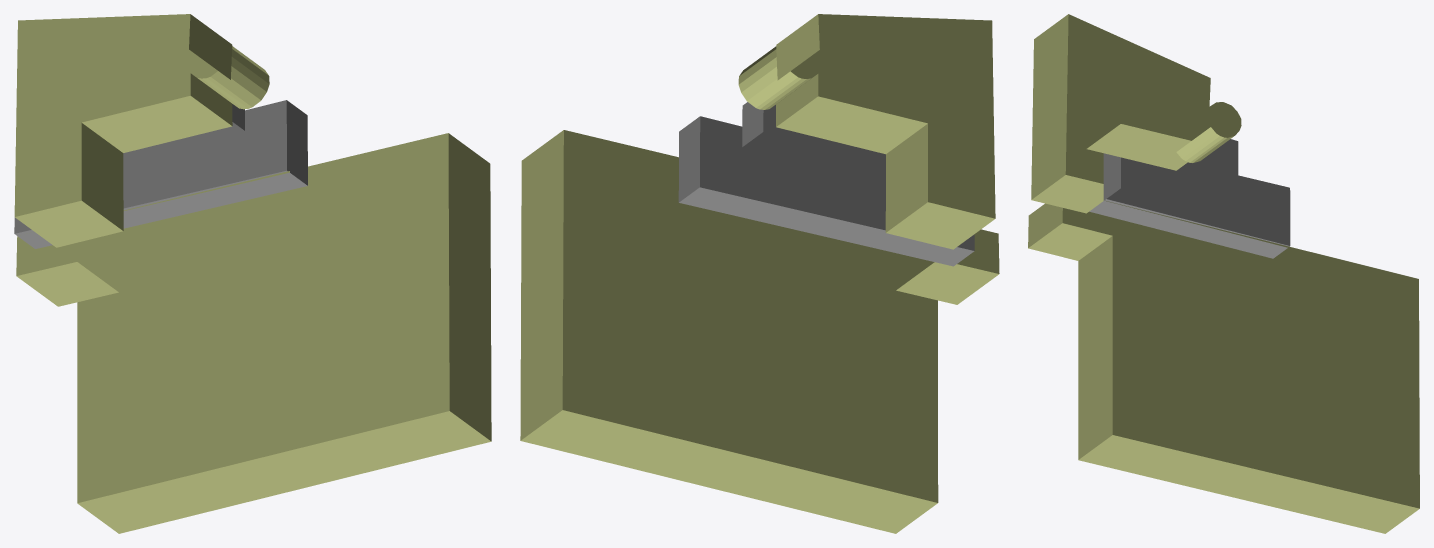
3 views of the same model, side by side, from view 1: azimuth 30°, elevation 25°; view 2: azimuth 150°, elevation 25°; view 3: azimuth 330°, elevation 25° (orthographic). The views are drawn at different scales.
Visible parts, largest first — view 1: 0_3_0_2_1_2_2_1_2; view 2: 0_3_0_2_1_2_2_1_2; view 3: 0_3_0_2_1_2_2_1_2.
Boxes of the visible parts, <box> form: 0_3_0_2_1_2_2_1_2: <box>14,14,491,533</box>; 0_3_0_2_1_2_2_1_2: <box>520,14,999,533</box>; 0_3_0_2_1_2_2_1_2: <box>1028,14,1419,533</box>.
Bounding box in the file's own units: 35.85 × 39.1 × 6.4.
